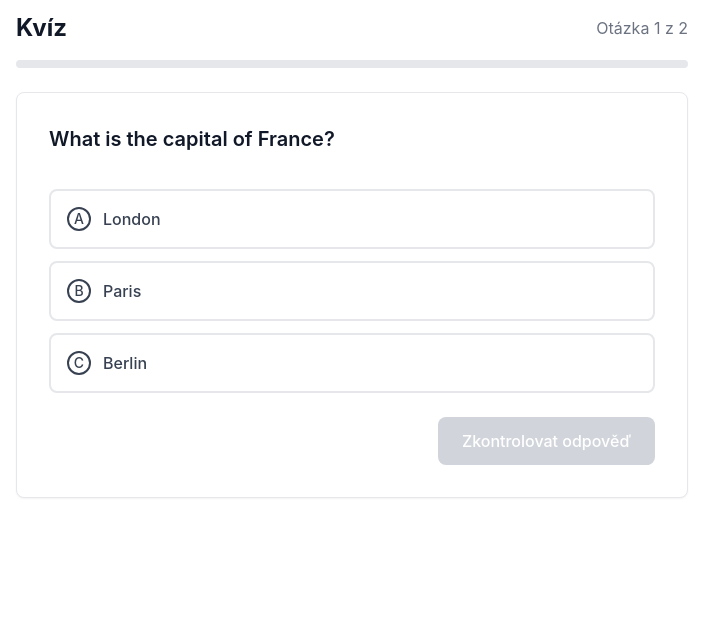
it: ChapterQuiz › shows feedback and explanation when answer is checked
Note: Select correct answer
Step 1. Click the radio button with test id "option-1" → click(122, 291), box [49,261,655,321]
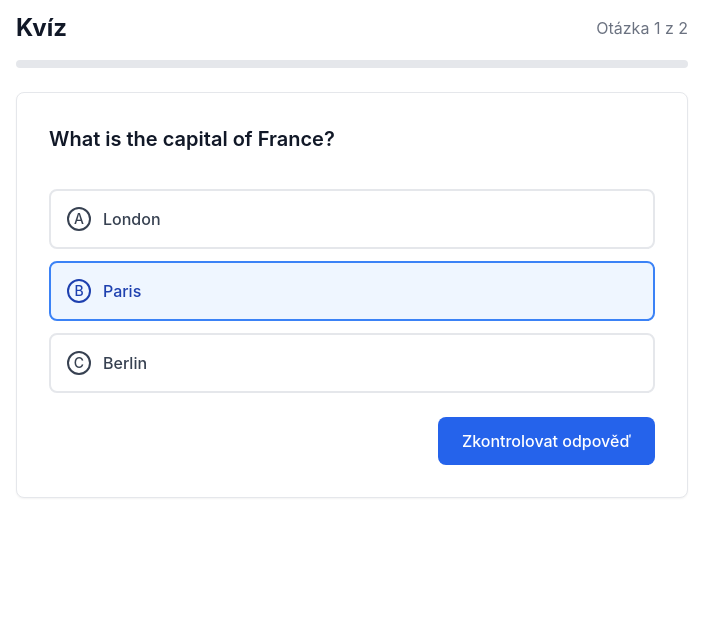
Note: Check answer
Step 2. Click the button with test id "check-answer-button" → click(546, 441), box [438,417,655,465]
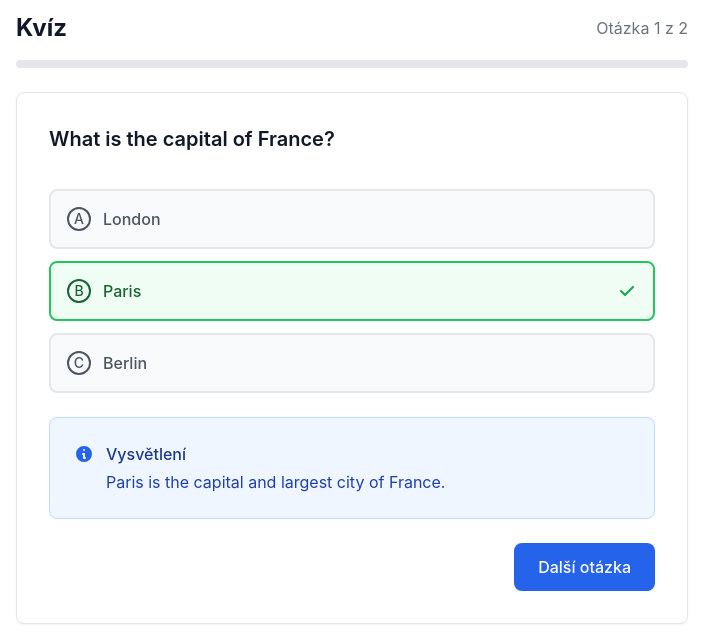
Check: the heading "Vysvětlení" is shown, box [106,444,186,464]
Check: the text "Paris is the capital and largest city of France." is shown, box [106,470,445,494]
Check: the button with test id "next-question-button" is shown, box [514,543,655,591]
